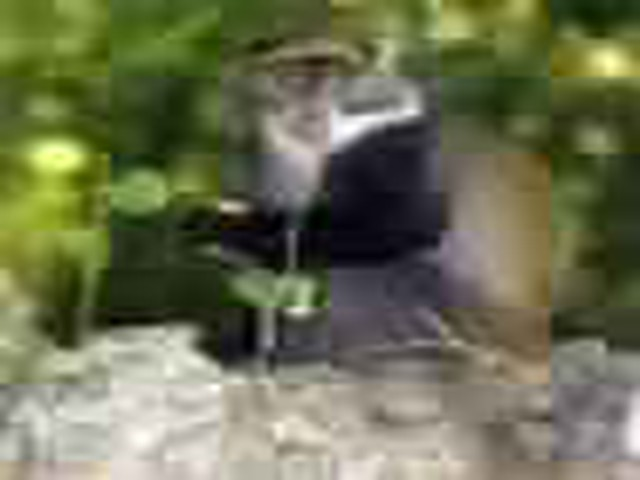Monkey: (206, 32, 430, 340)
